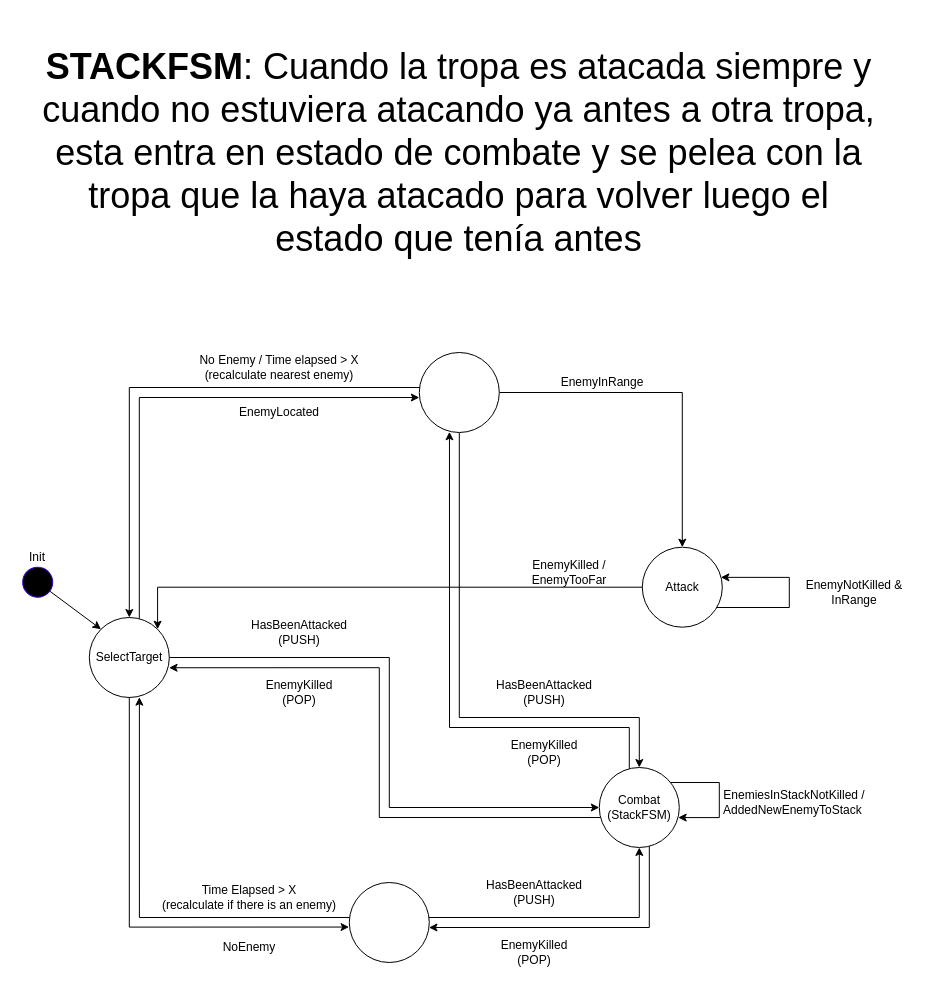
The diagram is 926 pixels wide and 984 high, and some of its shapes have lost their labels. Each missing label, with the centre of its shape:
"ChaseTarget" goes at point (458, 392).
"MoveToBase" goes at point (388, 922).
